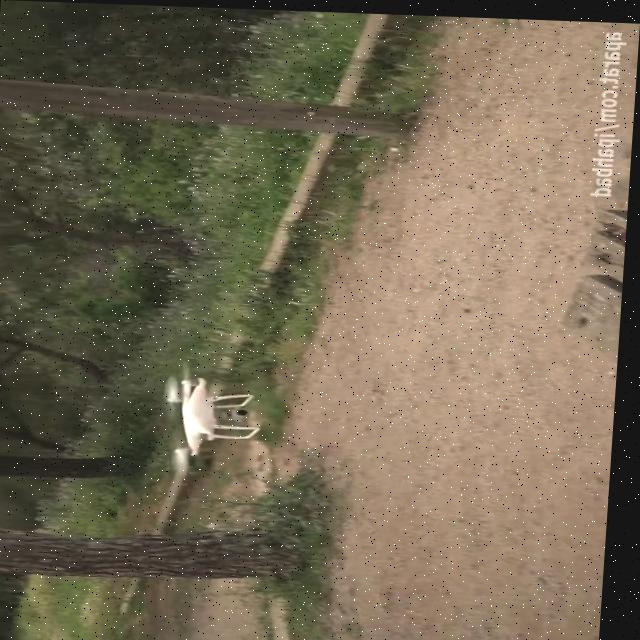drone: (162, 362, 267, 475)
